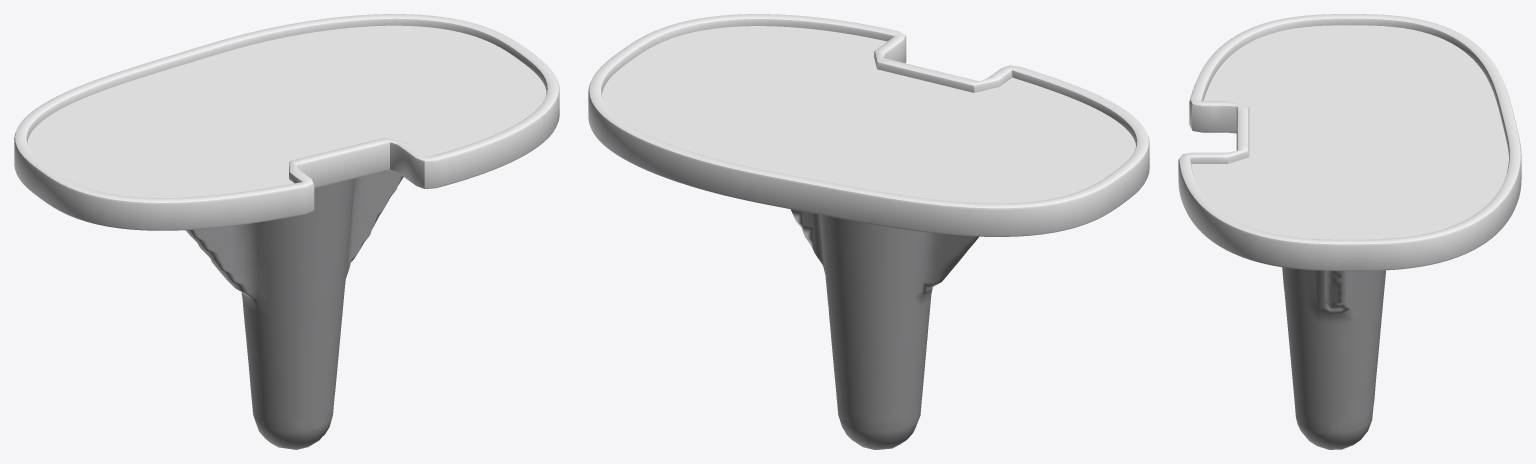
The model's file is tray_mirai_lod1.glb.
3 renders of one model, left to right at view 1: azimuth 30°, elevation 25°; view 2: azimuth 150°, elevation 25°; view 3: azimuth 270°, elevation 25°, orthographic. The views are drawn at different scales.
Visible parts, largest first — view 1: tray_mirai; view 2: tray_mirai; view 3: tray_mirai.
Part boxes in pixels (left/top/right/bottom): tray_mirai: left=14, top=14, right=559, bottom=449; tray_mirai: left=588, top=14, right=1149, bottom=449; tray_mirai: left=1178, top=14, right=1521, bottom=449.
Size of the model in its own units: 0.07 by 0.045 by 0.0439.
2 materials, 1 textured.
